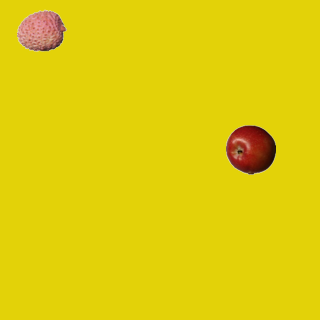Apple Braeburn: (225, 124, 275, 174)
Lychee: (16, 5, 66, 55)
